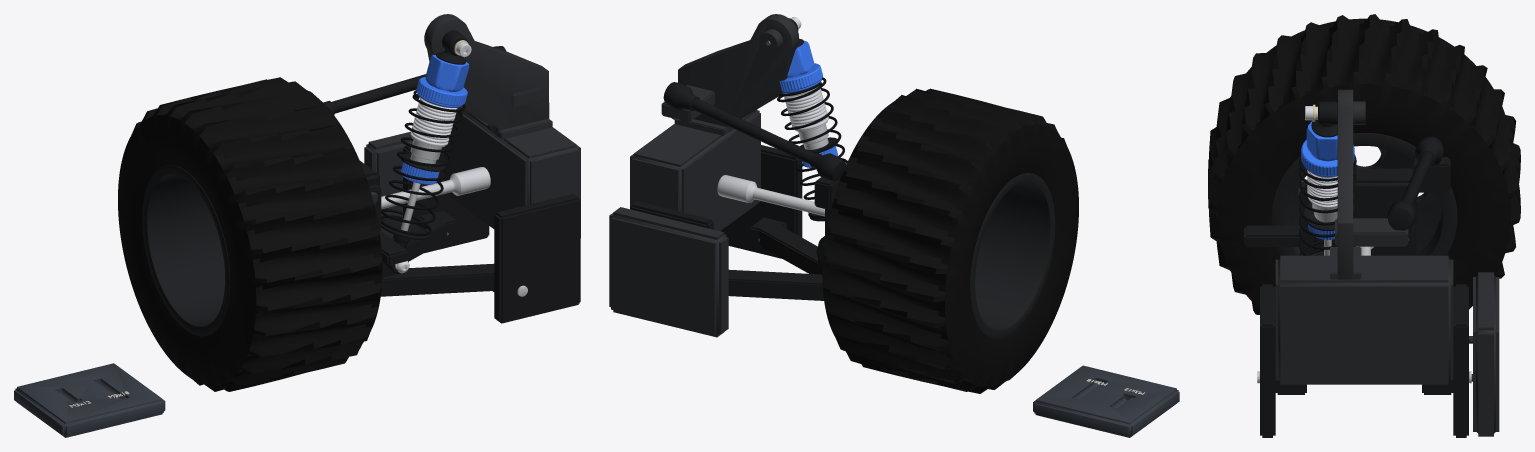
File: corner.glb
3 renders of one model, left to right at view 1: azimuth 30°, elevation 25°; view 2: azimuth 150°, elevation 25°; view 3: azimuth 270°, elevation 25°, orthographic. The views are drawn at different scales.
Visible parts, largest first — view 1: FTX6310B_tyre, FTX6315B_wheel, FTX6220_holder_rear, FTX6225_gearbox_housing, FTX6200_tower, tray, FTX6320_lower_arm, FTX6356_FTX6204_spring, FTX6220_holder_front, FTX6324N_bumper, FTX6356_FTX6208_body, FTX6322_cvd (+4 smaller); view 2: FTX6310B_tyre, FTX6324N_bumper, FTX6315B_wheel, FTX6225_gearbox_housing, FTX6200_tower, tray, FTX6320_lower_arm, FTX6220_holder_rear, FTX6322_cvd, FTX6356_FTX6208_body, FTX6327_upper_arm, FTX6356_FTX6204_spring (+6 smaller); view 3: FTX6310B_tyre, FTX6225_gearbox_housing, FTX6315B_wheel, FTX6200_tower, FTX6324N_bumper, FTX6216_upright, FTX6220_holder_front, FTX6220_holder_rear, FTX6356_FTX6204_spring, FTX6215_knuckle_arm, FTX6356_FTX6208_body, FTX6356_FTX6210_cap (+7 smaller).
Boxes of the visible parts, <box> form: FTX6310B_tyre: <box>118,77,382,391</box>; FTX6315B_wheel: <box>142,165,230,336</box>; FTX6220_holder_rear: <box>494,194,580,323</box>; FTX6225_gearbox_housing: <box>445,107,580,237</box>; FTX6200_tower: <box>424,14,552,139</box>; tray: <box>14,363,165,437</box>; FTX6320_lower_arm: <box>380,210,494,296</box>; FTX6356_FTX6204_spring: <box>381,90,465,235</box>; FTX6220_holder_front: <box>403,144,489,253</box>; FTX6324N_bumper: <box>364,131,412,238</box>; FTX6356_FTX6208_body: <box>410,97,457,166</box>; FTX6322_cvd: <box>381,167,490,209</box>; FTX6310B_tyre: <box>822,88,1078,393</box>; FTX6324N_bumper: <box>609,207,728,337</box>; FTX6315B_wheel: <box>970,173,1055,339</box>; FTX6225_gearbox_housing: <box>630,109,760,230</box>; FTX6200_tower: <box>661,14,799,135</box>; tray: <box>1033,365,1179,437</box>; FTX6320_lower_arm: <box>728,217,824,300</box>; FTX6220_holder_rear: <box>720,145,802,258</box>; FTX6322_cvd: <box>717,175,824,216</box>; FTX6356_FTX6208_body: <box>783,86,828,149</box>; FTX6327_upper_arm: <box>691,98,814,163</box>; FTX6356_FTX6204_spring: <box>777,77,847,218</box>; FTX6310B_tyre: <box>1208,14,1520,314</box>; FTX6225_gearbox_housing: <box>1275,255,1453,384</box>; FTX6315B_wheel: <box>1271,133,1457,255</box>; FTX6200_tower: <box>1330,89,1408,279</box>; FTX6324N_bumper: <box>1473,272,1499,436</box>; FTX6216_upright: <box>1312,157,1450,255</box>; FTX6220_holder_front: <box>1453,284,1468,437</box>; FTX6220_holder_rear: <box>1260,284,1275,437</box>; FTX6356_FTX6204_spring: <box>1299,154,1356,255</box>; FTX6215_knuckle_arm: <box>1244,179,1312,255</box>; FTX6356_FTX6208_body: <box>1307,170,1337,222</box>; FTX6356_FTX6210_cap: <box>1306,120,1337,161</box>.
Size of the model in its own units: 0.235 by 0.1398 by 0.1196.
6 materials, 6 textured.
